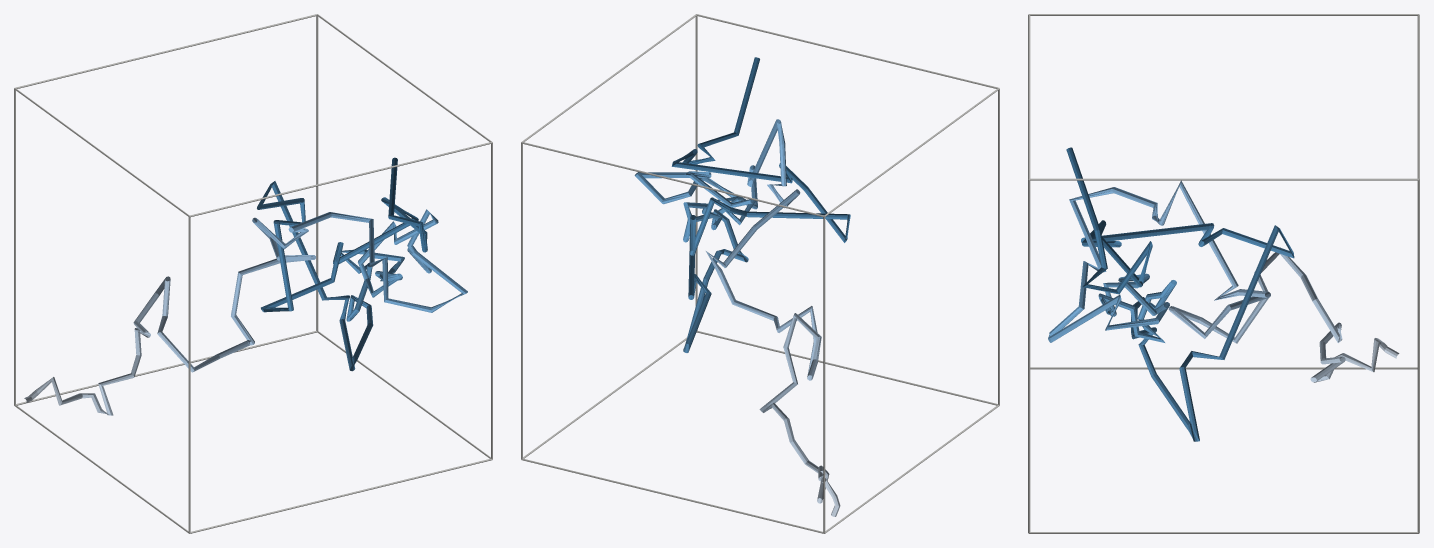
3 views of the same model, side by side, from view 1: azimuth 30°, elevation 25°; view 2: azimuth 150°, elevation 25°; view 3: azimuth 270°, elevation 25° (orthographic). The views are drawn at different scales.
Parts seen in each view (by area): view 1: geometry_0, geometry_1; view 2: geometry_0, geometry_1; view 3: geometry_0, geometry_1.
Boxes of the visible parts, left/top/right/bottom form: geometry_0: left=24, top=157, right=467, bottom=415; geometry_1: left=14, top=14, right=492, bottom=533; geometry_0: left=634, top=57, right=850, bottom=516; geometry_1: left=521, top=14, right=999, bottom=533; geometry_0: left=1048, top=147, right=1399, bottom=441; geometry_1: left=1028, top=14, right=1419, bottom=533.
Size of the model in its own units: 0.3038 by 0.3014 by 0.3016.
